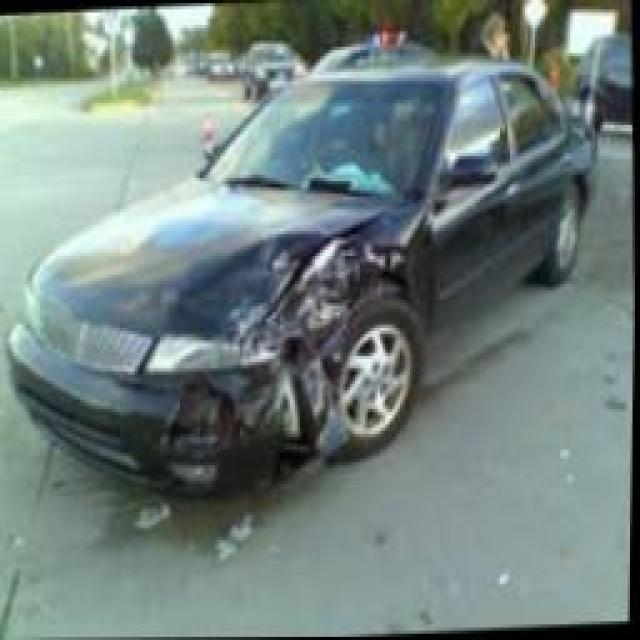Bumper: (168, 359, 284, 497)
Fender: (275, 225, 398, 447)
